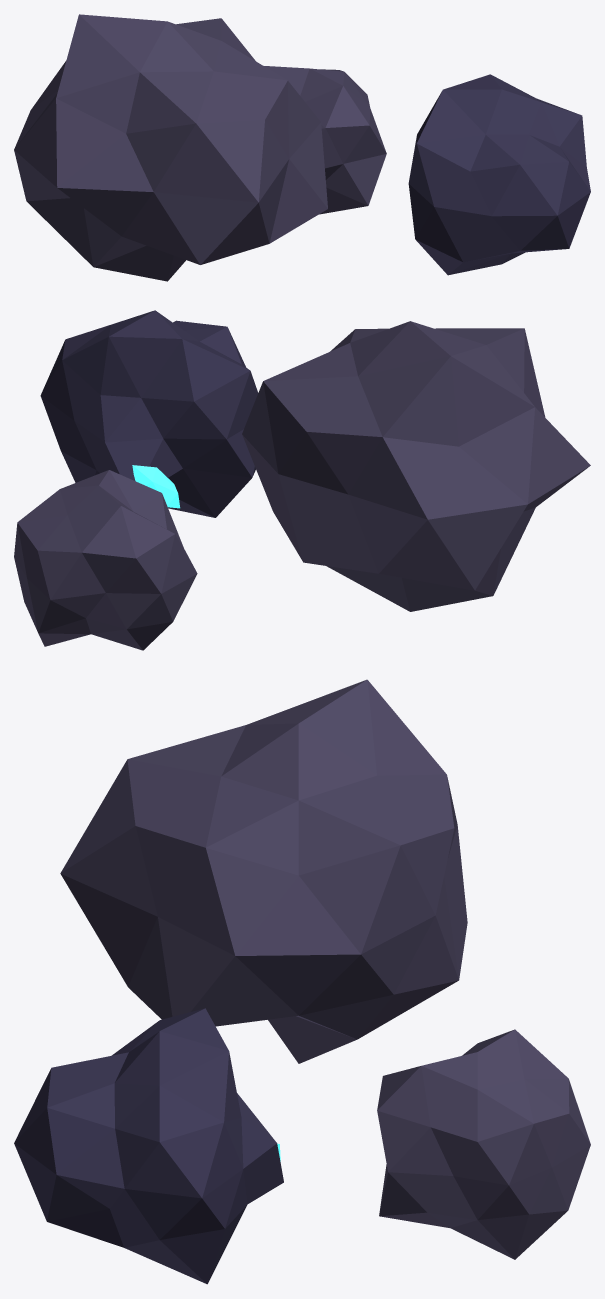
Rendered from asteroid_b.glb.
3 views of the same model, one above another, from view 1: azimuth 30°, elevation 25°; view 2: azimuth 150°, elevation 25°; view 3: azimuth 270°, elevation 25° (orthographic). The views are drawn at different scales.
Parts seen in each view (by area): view 1: RockB1, RockB2, RockB3; view 2: RockB1, RockB2, RockB3, CrysB2; view 3: RockB1, RockB2, RockB3.
Boxes of the visible parts, box(x1,y1,x2,y2) form: RockB1: box(14, 14, 327, 281); RockB2: box(408, 74, 590, 275); RockB3: box(264, 66, 386, 214); RockB1: box(242, 321, 590, 611); RockB2: box(40, 310, 258, 517); RockB3: box(14, 470, 197, 650); CrysB2: box(132, 465, 180, 508); RockB1: box(60, 679, 467, 1063); RockB2: box(14, 1008, 283, 1284); RockB3: box(377, 1029, 590, 1259).
Size of the model in its own units: 3.83 by 2.13 by 2.9.
